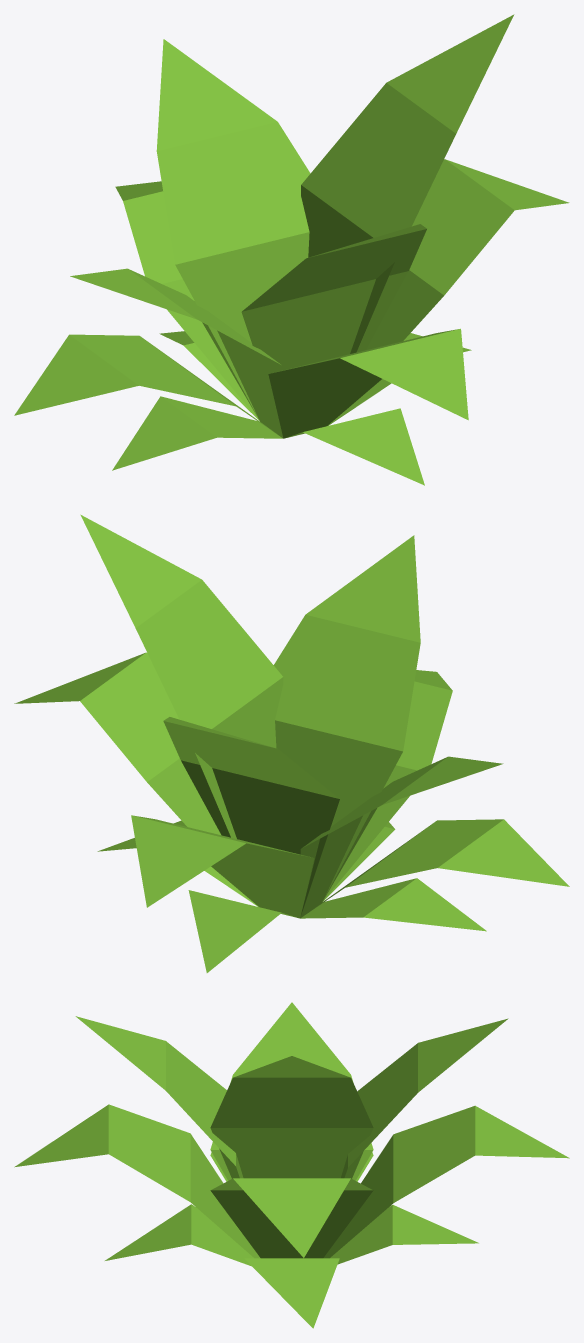
The model's file is bush_large.glb.
3 renders of one model, top to bottom at view 1: azimuth 30°, elevation 25°; view 2: azimuth 150°, elevation 25°; view 3: azimuth 270°, elevation 25°, orthographic. The views are drawn at different scales.
Parts seen in each view (by area): view 1: plant_bushDetailed; view 2: plant_bushDetailed; view 3: plant_bushDetailed.
Part boxes in pixels (bbox=[...]): plant_bushDetailed: bbox=[14, 14, 569, 485]; plant_bushDetailed: bbox=[14, 514, 569, 972]; plant_bushDetailed: bbox=[14, 1002, 569, 1328].
Size of the model in its own units: 1.21 by 0.7208 by 1.21.
